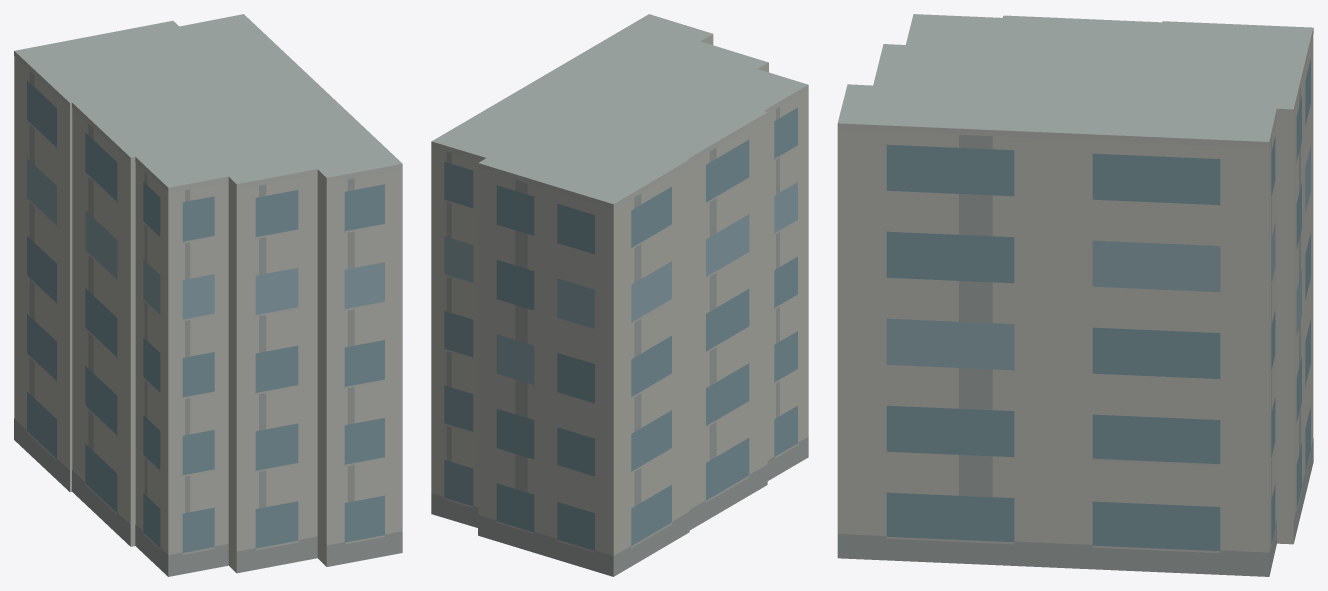
File: survey-upis-32505482.glb
3 renders of one model, left to right at view 1: azimuth 30°, elevation 25°; view 2: azimuth 150°, elevation 25°; view 3: azimuth 270°, elevation 25°, orthographic. The views are drawn at different scales.
Visible parts, largest first — view 1: survey-upis-32505482.tmp; view 2: survey-upis-32505482.tmp; view 3: survey-upis-32505482.tmp.
Boxes of the visible parts, bbox=[...] form: survey-upis-32505482.tmp: bbox=[14, 14, 402, 576]; survey-upis-32505482.tmp: bbox=[431, 14, 808, 576]; survey-upis-32505482.tmp: bbox=[837, 14, 1313, 576].
Size of the model in its own units: 10.73 by 16.99 by 16.86.
